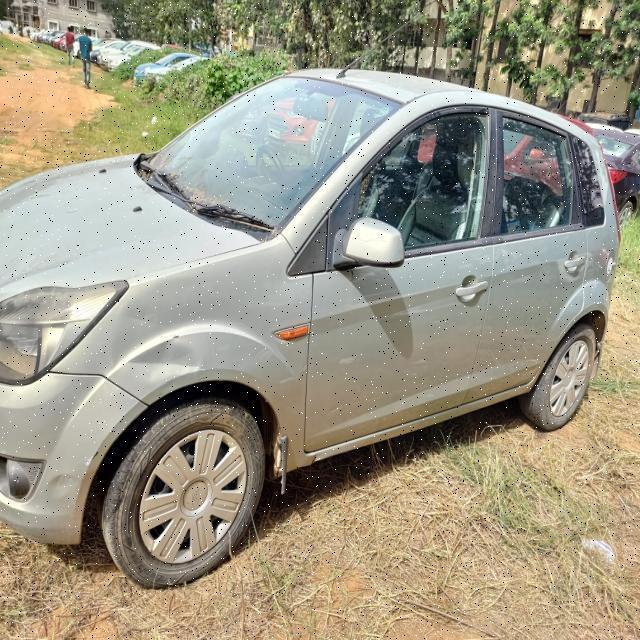fender-dent: (111, 284, 311, 429)
front-bumper-dent: (0, 372, 109, 544)
